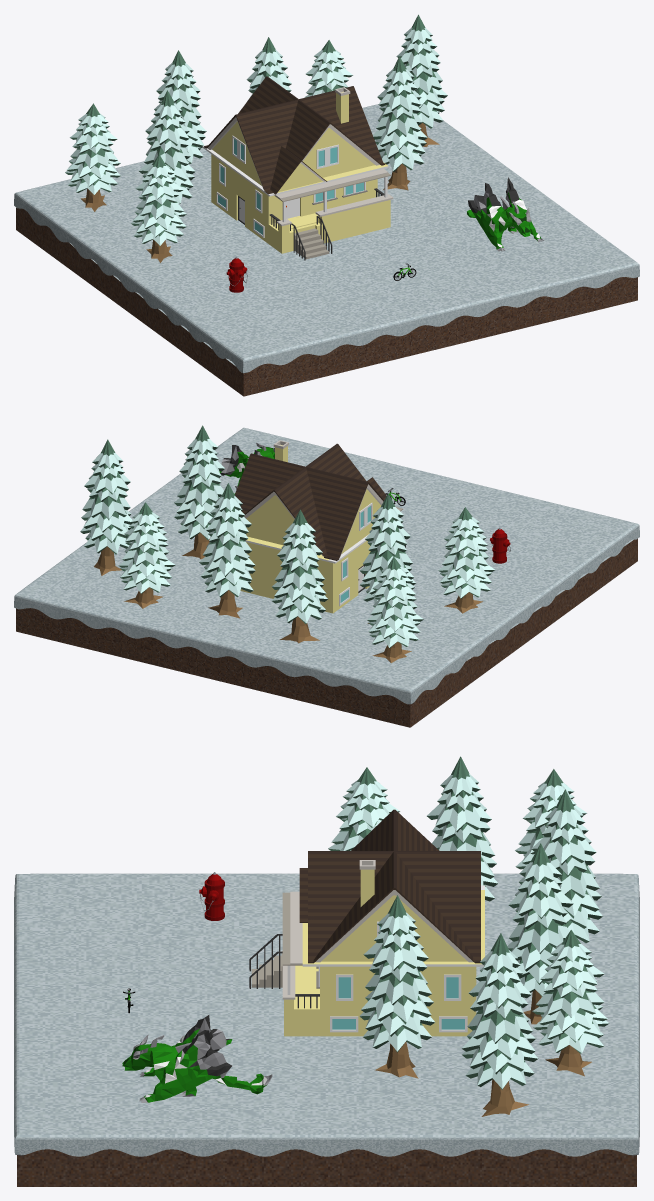
3 views of the same model, one above another, from view 1: azimuth 30°, elevation 25°; view 2: azimuth 150°, elevation 25°; view 3: azimuth 270°, elevation 25° (orthographic). The views are drawn at different scales.
Visible parts, largest first — view 1: Cube.003, Cube.1555, ANIMAL_DRAGON, OBJRANDOM_FIRE_HYDRANT; view 2: Cube.003, Cube.1555, ANIMAL_DRAGON, OBJRANDOM_FIRE_HYDRANT; view 3: Cube.003, Cube.1555, ANIMAL_DRAGON, OBJRANDOM_FIRE_HYDRANT.
Part boxes in pixels (bbox=[...]): Cube.003: bbox=[14, 14, 639, 396]; Cube.1555: bbox=[202, 76, 393, 260]; ANIMAL_DRAGON: bbox=[467, 177, 543, 251]; OBJRANDOM_FIRE_HYDRANT: bbox=[226, 256, 247, 292]; Cube.003: bbox=[14, 425, 639, 727]; Cube.1555: bbox=[235, 440, 405, 613]; ANIMAL_DRAGON: bbox=[219, 442, 274, 494]; OBJRANDOM_FIRE_HYDRANT: bbox=[490, 527, 510, 563]; Cube.003: bbox=[14, 756, 639, 1186]; Cube.1555: bbox=[249, 809, 484, 1036]; ANIMAL_DRAGON: bbox=[122, 1015, 272, 1102]; OBJRANDOM_FIRE_HYDRANT: bbox=[199, 872, 224, 920].
Size of the model in its own units: 4040 by 1793 by 4040.
32 materials, 3 textured.
